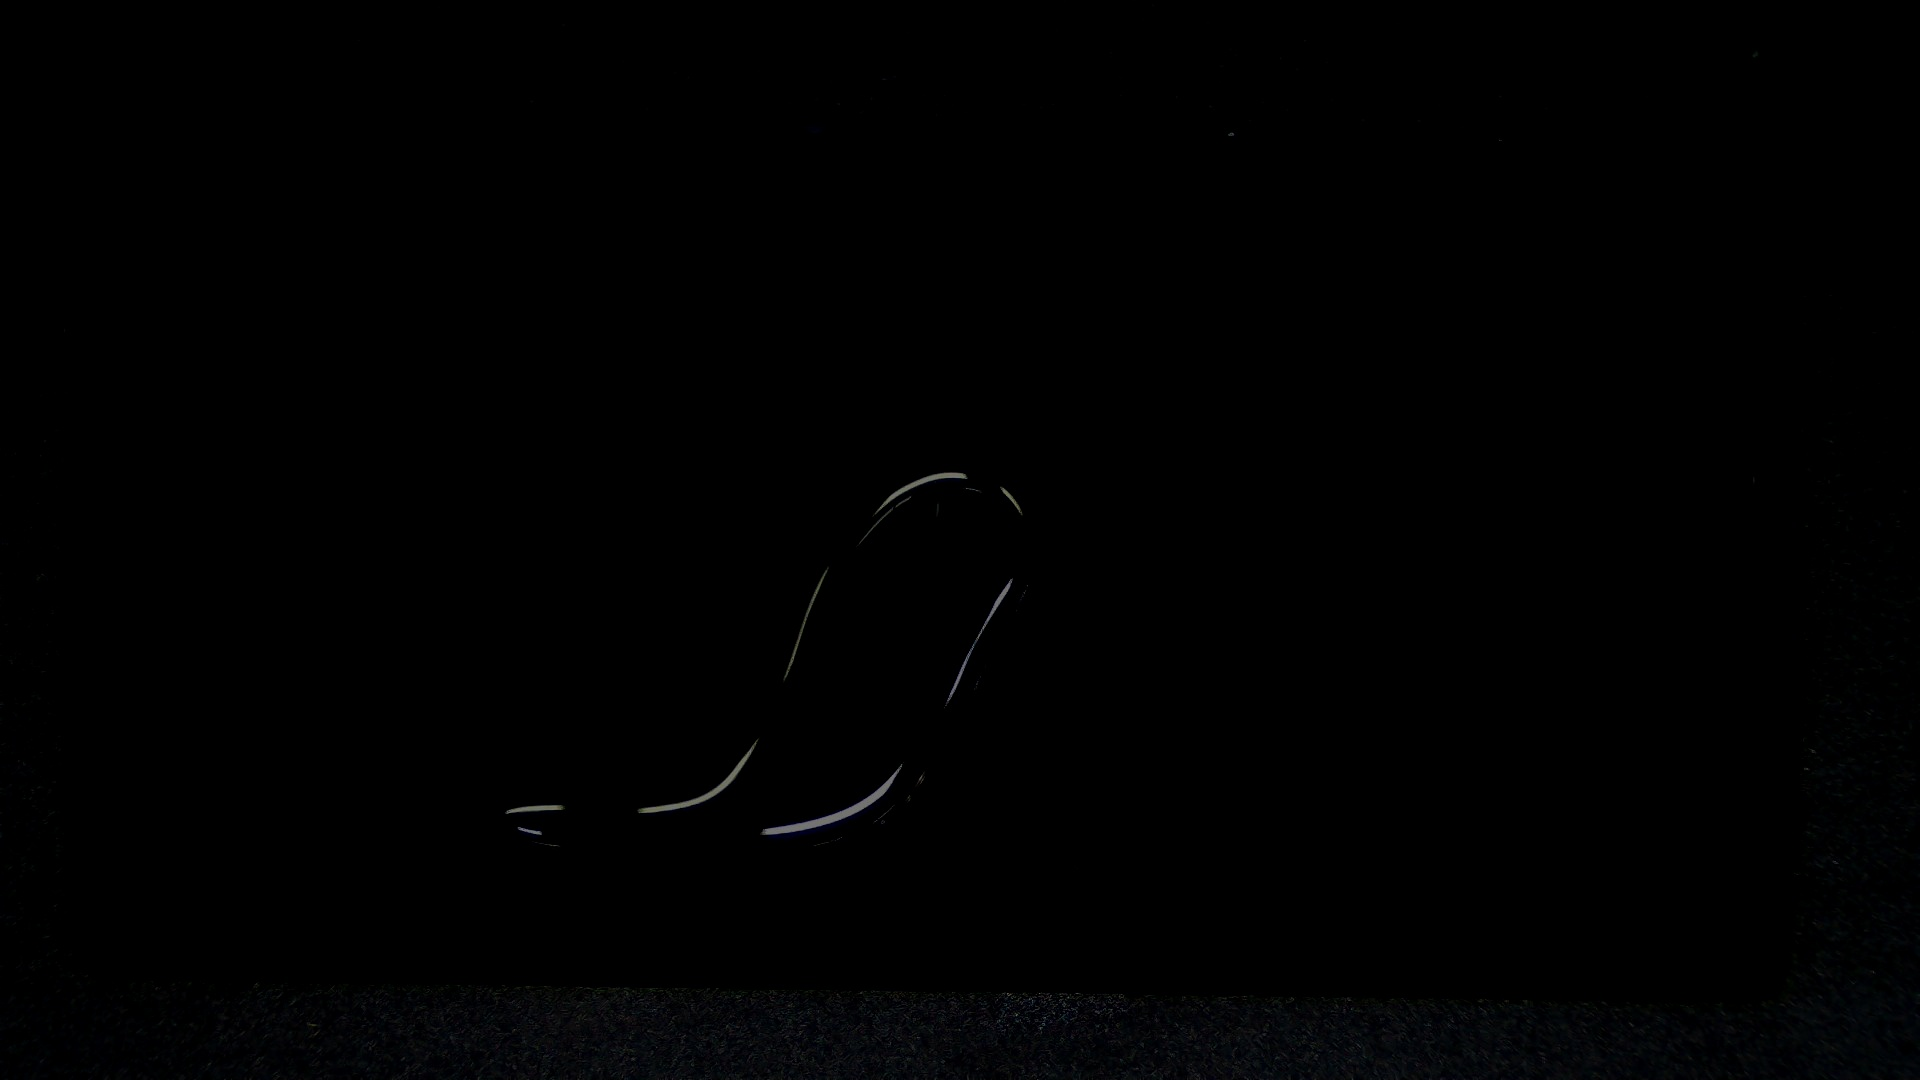oil: (467, 229, 1399, 688)
